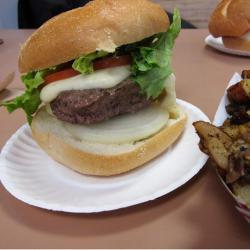bread: (210, 1, 250, 54)
burger: (16, 2, 196, 181)
fries: (189, 73, 250, 197)
